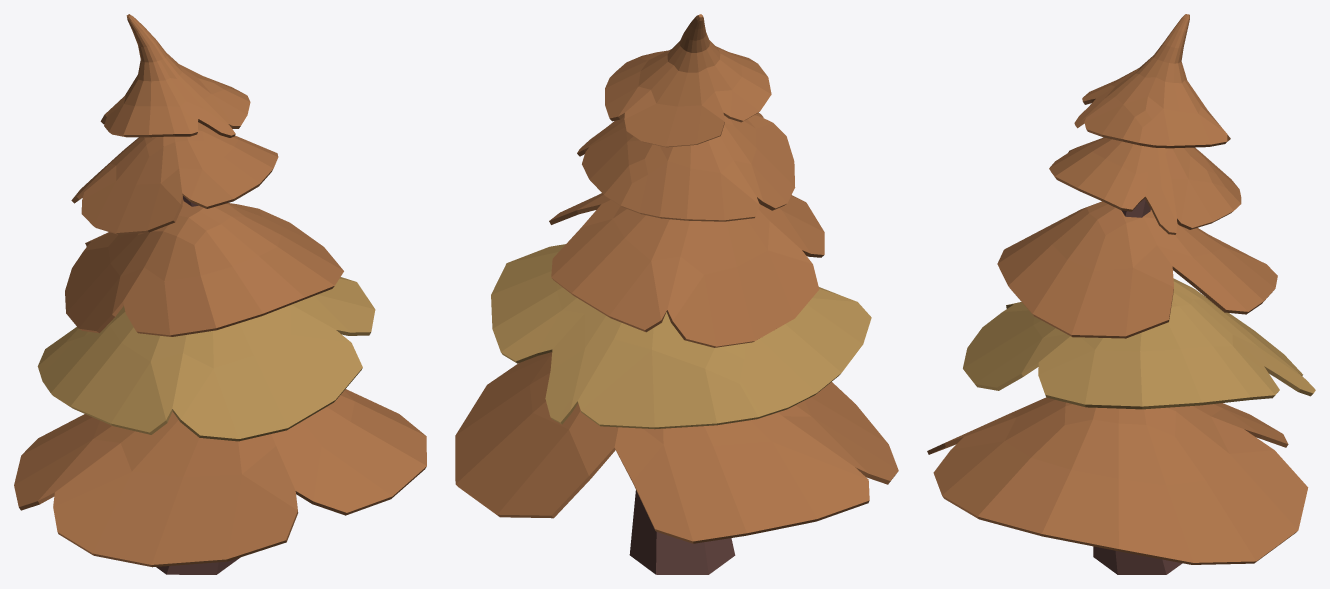
The model's file is PineTree_Autumn_1.glb.
The picture shows the model from 3 angles, left to right: view 1: azimuth 30°, elevation 25°; view 2: azimuth 150°, elevation 25°; view 3: azimuth 270°, elevation 25°; orthographic projection. The views are drawn at different scales.
Parts seen in each view (by area): view 1: Orange, LightOrange, Wood; view 2: Orange, LightOrange, Wood; view 3: Orange, LightOrange, Wood.
Part boxes in pixels (box(x1,y1,x2,y2)): Orange: box(14, 14, 426, 567); LightOrange: box(37, 277, 375, 441); Wood: box(156, 196, 240, 574); Orange: box(455, 14, 898, 543); LightOrange: box(491, 244, 871, 429); Wood: box(629, 490, 735, 574); Orange: box(927, 14, 1308, 564); LightOrange: box(963, 278, 1315, 409); Wood: box(1093, 198, 1182, 574).
Bounding box in the file's own units: 1.96 × 2.7 × 1.82.
